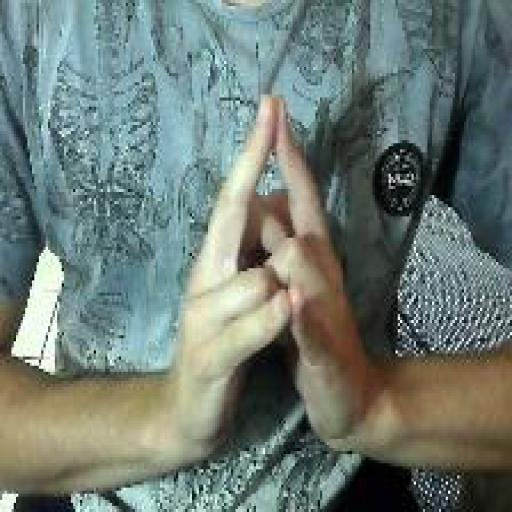Tori -bird-: (168, 86, 371, 464)
